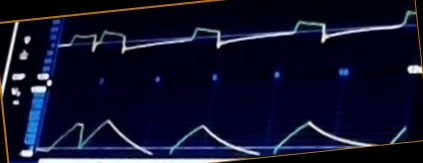Double_Triggering Flow: (60, 10, 416, 63)
Double_Triggering Volume: (41, 108, 406, 156)
